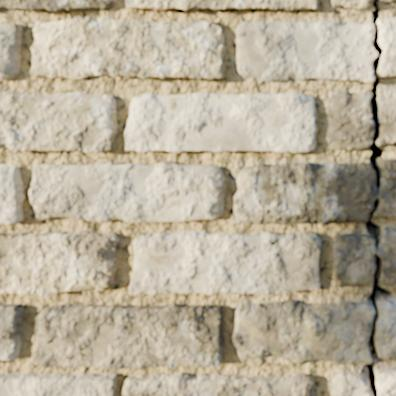brick: (34, 304, 223, 368), (129, 231, 320, 294), (31, 17, 225, 78), (30, 162, 224, 221), (125, 93, 316, 152), (0, 231, 118, 296), (0, 91, 116, 152), (123, 373, 314, 395), (0, 373, 116, 395), (126, 0, 317, 10), (0, 165, 23, 223), (0, 0, 115, 11), (0, 304, 21, 359), (0, 24, 21, 79)
broken_brick: (232, 299, 373, 365), (233, 161, 374, 225), (236, 19, 376, 83), (326, 90, 373, 150), (332, 233, 374, 287), (376, 299, 395, 361), (377, 158, 395, 219), (377, 228, 395, 289), (378, 86, 395, 146), (379, 17, 395, 77), (331, 371, 369, 395), (376, 367, 395, 395), (330, 0, 372, 11), (381, 0, 395, 3)
crack: (361, 0, 395, 395), (29, 181, 55, 214), (270, 235, 284, 245), (256, 383, 264, 395)
